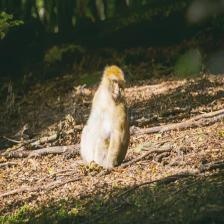monkey: (80, 57, 132, 174)
